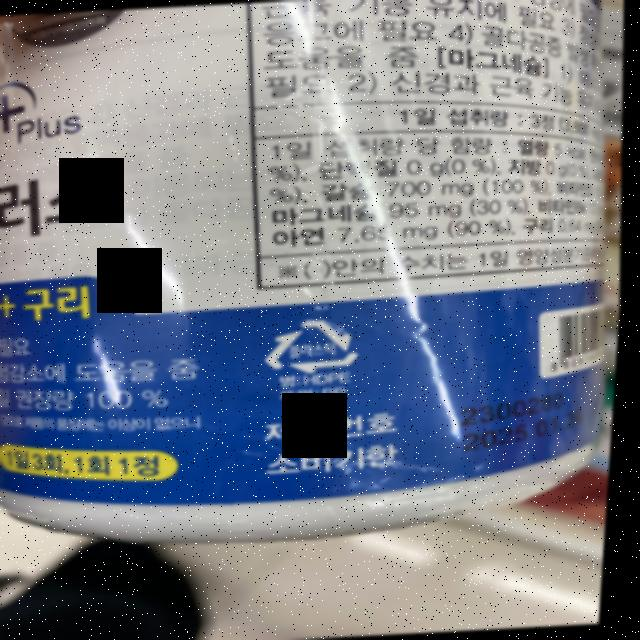Plastic: (261, 312, 374, 377)
